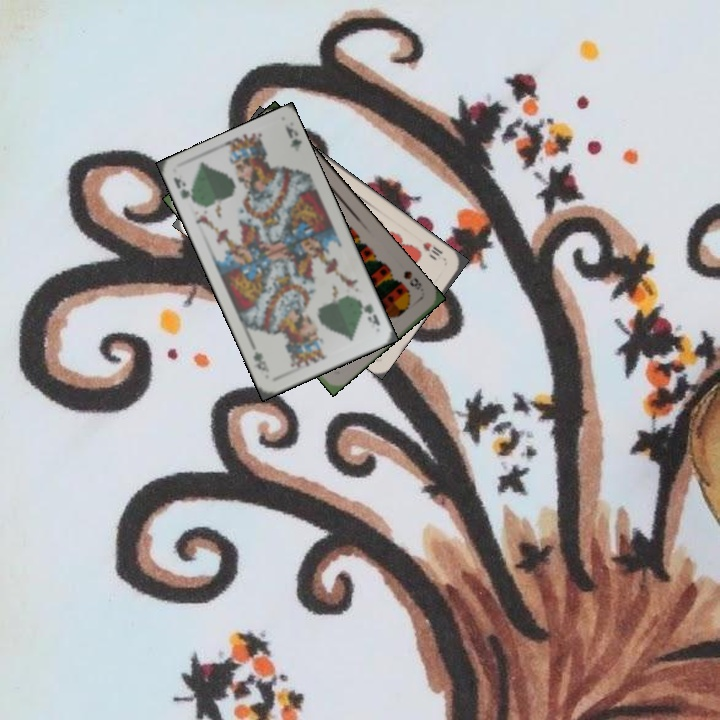GK: (169, 173, 199, 206), (360, 300, 383, 328)
H10: (418, 238, 445, 259)
S8: (399, 267, 424, 293)
